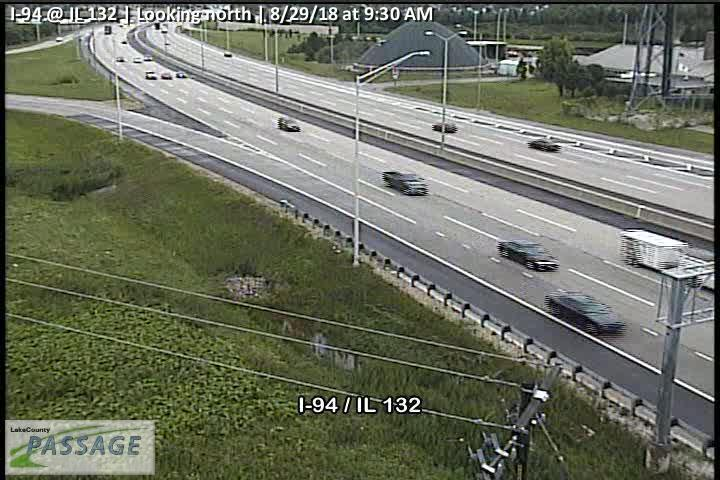SUV: (278, 116, 300, 133)
Sedan: (545, 287, 625, 335), (497, 238, 559, 271), (382, 169, 428, 195), (527, 138, 562, 154), (432, 121, 457, 133)
Truck: (616, 227, 714, 289)
